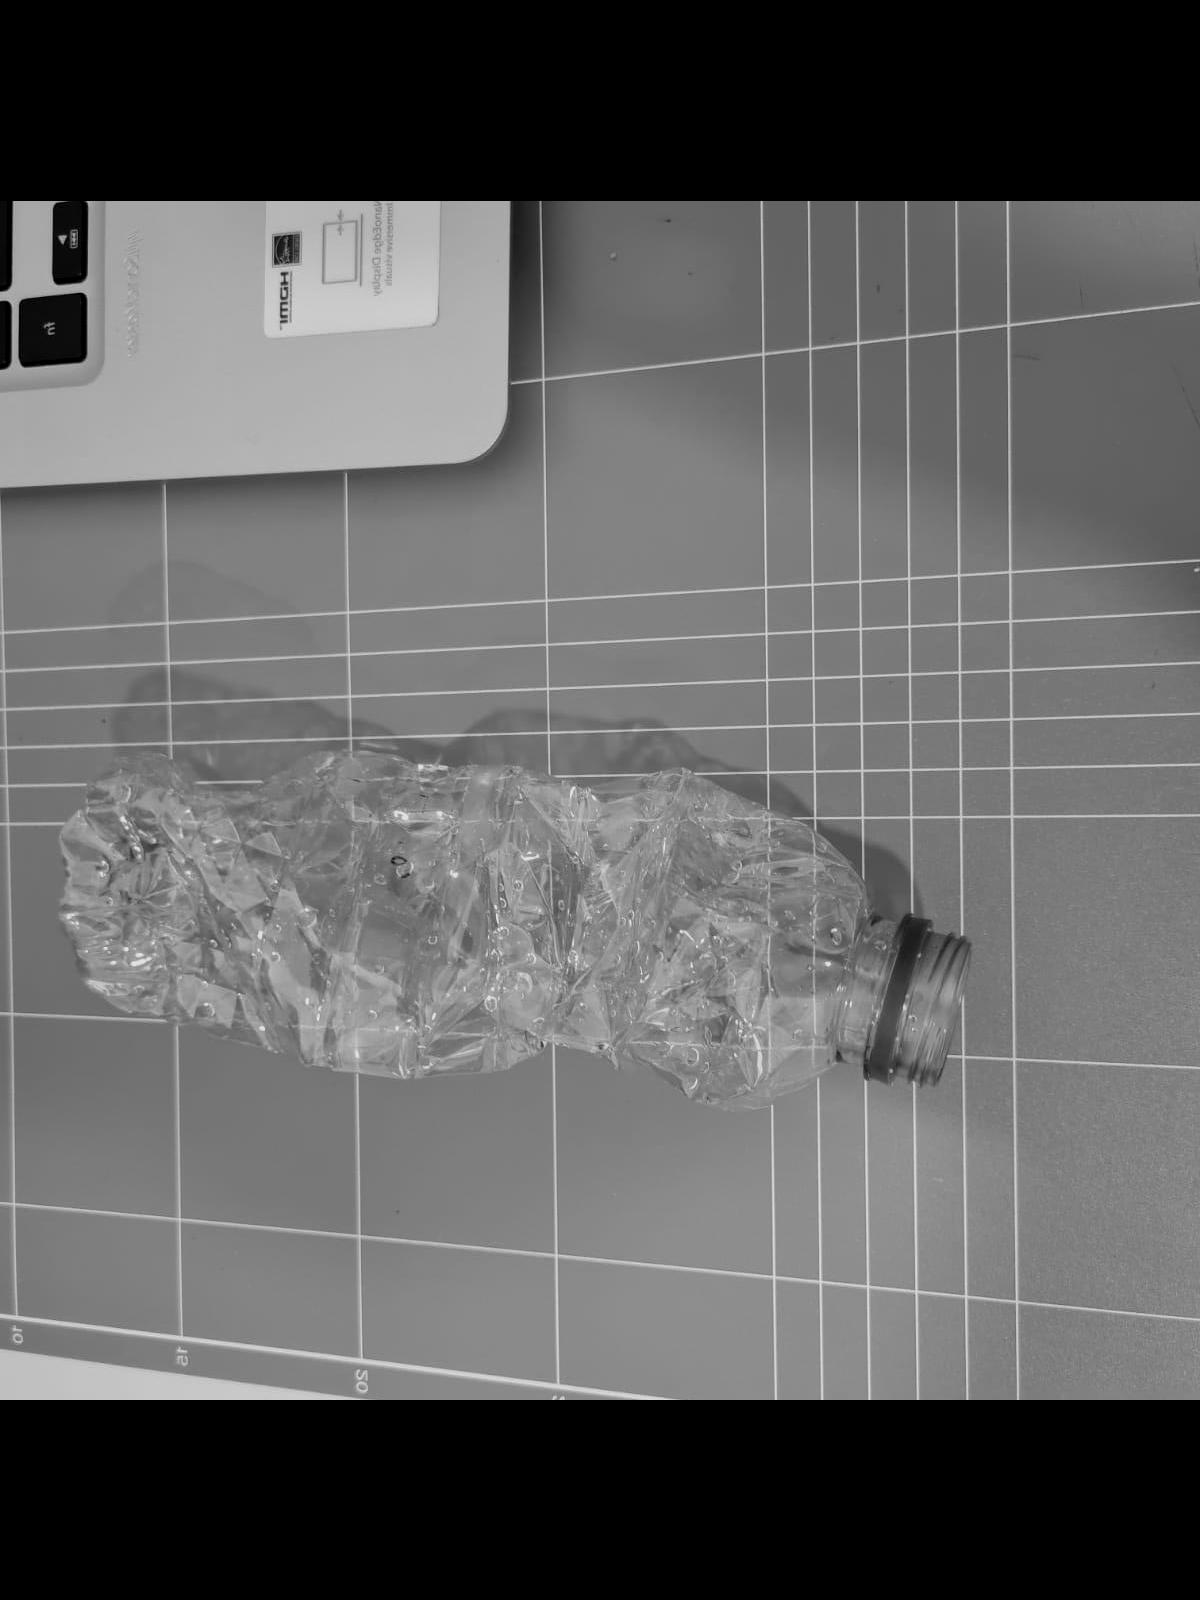bottle: (47, 761, 979, 1143)
